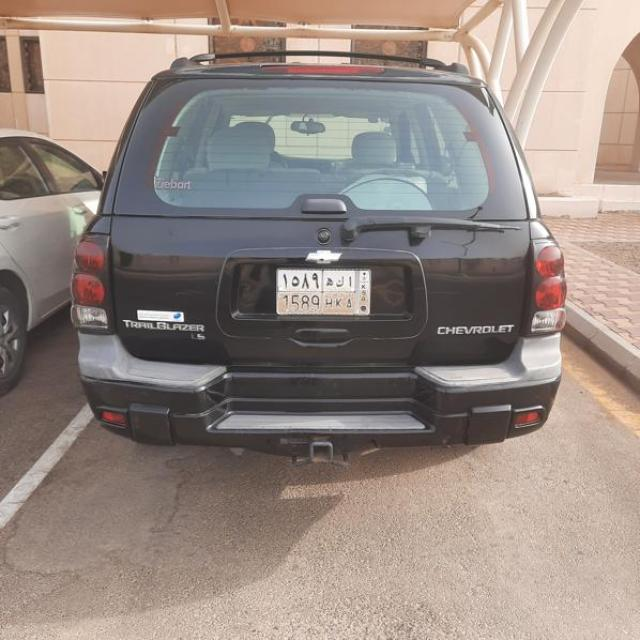license_plate: (274, 265, 377, 319)
